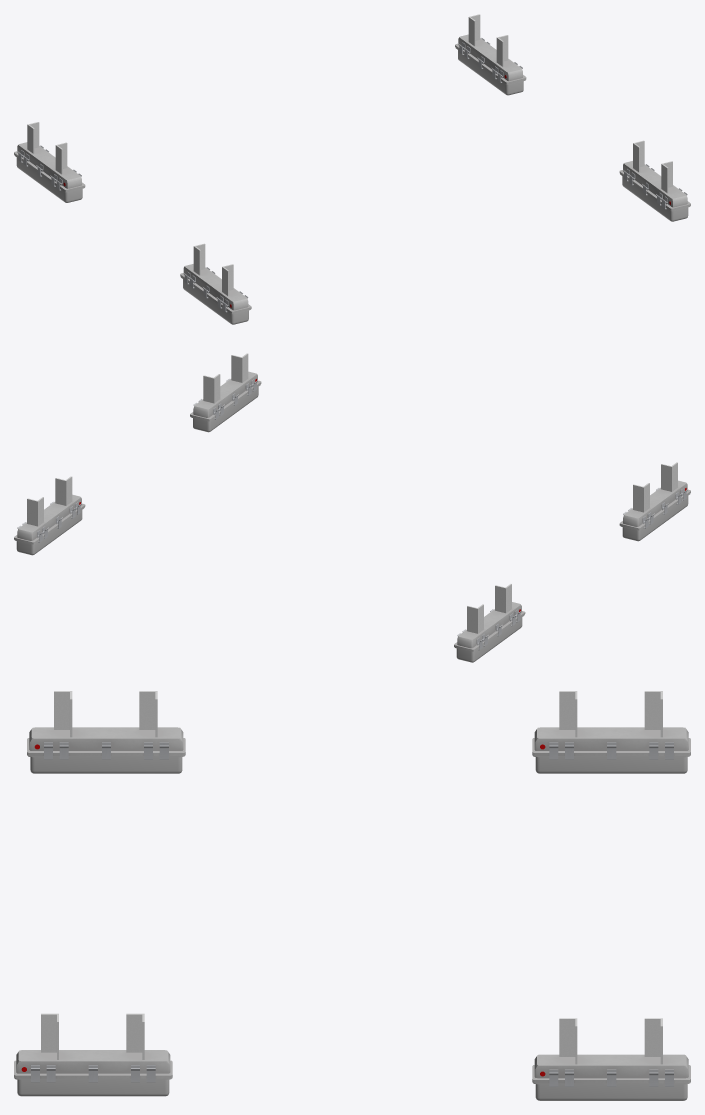
Rendered from ship_deck_manifold_station_ceiling_lights.fbx.
3 renders of one model, top to bottom at view 1: azimuth 30°, elevation 25°; view 2: azimuth 150°, elevation 25°; view 3: azimuth 270°, elevation 25°, orthographic. The views are drawn at different scales.
Visible parts, largest first — view 1: ship_deck_manifold_station_ceiling_lights_casing, ship_deck_manifold_station_ceiling_lights_cover, ship_deck_manifold_station_ceiling_lights_stem, ship_deck_manifold_station_ceiling_lights_bracket; view 2: ship_deck_manifold_station_ceiling_lights_casing, ship_deck_manifold_station_ceiling_lights_stem, ship_deck_manifold_station_ceiling_lights_cover, ship_deck_manifold_station_ceiling_lights_bracket; view 3: ship_deck_manifold_station_ceiling_lights_casing, ship_deck_manifold_station_ceiling_lights_cover, ship_deck_manifold_station_ceiling_lights_stem, ship_deck_manifold_station_ceiling_lights_bracket.
Boxes of the visible parts, bbox=[...] form: ship_deck_manifold_station_ceiling_lights_casing: bbox=[14, 34, 690, 313]; ship_deck_manifold_station_ceiling_lights_cover: bbox=[14, 48, 689, 324]; ship_deck_manifold_station_ceiling_lights_stem: bbox=[27, 14, 672, 295]; ship_deck_manifold_station_ceiling_lights_bracket: bbox=[17, 38, 687, 312]; ship_deck_manifold_station_ceiling_lights_casing: bbox=[14, 371, 690, 651]; ship_deck_manifold_station_ceiling_lights_stem: bbox=[27, 353, 677, 633]; ship_deck_manifold_station_ceiling_lights_cover: bbox=[15, 385, 689, 662]; ship_deck_manifold_station_ceiling_lights_bracket: bbox=[17, 378, 687, 650]; ship_deck_manifold_station_ceiling_lights_casing: bbox=[14, 727, 690, 1083]; ship_deck_manifold_station_ceiling_lights_cover: bbox=[14, 755, 690, 1100]; ship_deck_manifold_station_ceiling_lights_stem: bbox=[41, 691, 662, 1064]; ship_deck_manifold_station_ceiling_lights_bracket: bbox=[31, 742, 673, 1086].
Bounding box in the file's own units: 3599 × 358 × 2987.
